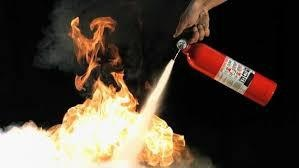fire: (13, 10, 181, 168)
